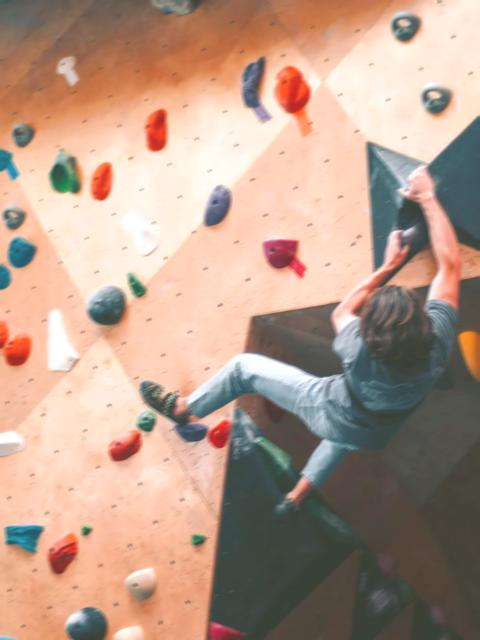crimp: (56, 56, 77, 75)
downhold: (421, 83, 452, 113), (391, 11, 421, 41)
jib: (136, 409, 156, 431), (191, 533, 206, 545), (80, 524, 92, 536)
jug: (262, 239, 298, 268), (144, 109, 167, 151), (7, 236, 36, 267), (90, 162, 112, 201), (127, 271, 146, 297)
ledge: (4, 524, 44, 553), (174, 422, 208, 441)
pinch: (241, 56, 265, 108)
sidepull: (48, 309, 80, 371), (120, 212, 161, 255), (47, 532, 78, 574), (204, 185, 231, 226), (126, 568, 156, 599), (4, 333, 31, 365), (208, 418, 232, 448)
sloper: (86, 285, 126, 324), (108, 429, 142, 460)
tape: (294, 108, 312, 136), (252, 102, 271, 123), (287, 258, 306, 278), (65, 69, 78, 86)
volume: (208, 404, 365, 638), (402, 114, 480, 253), (366, 140, 426, 267)
